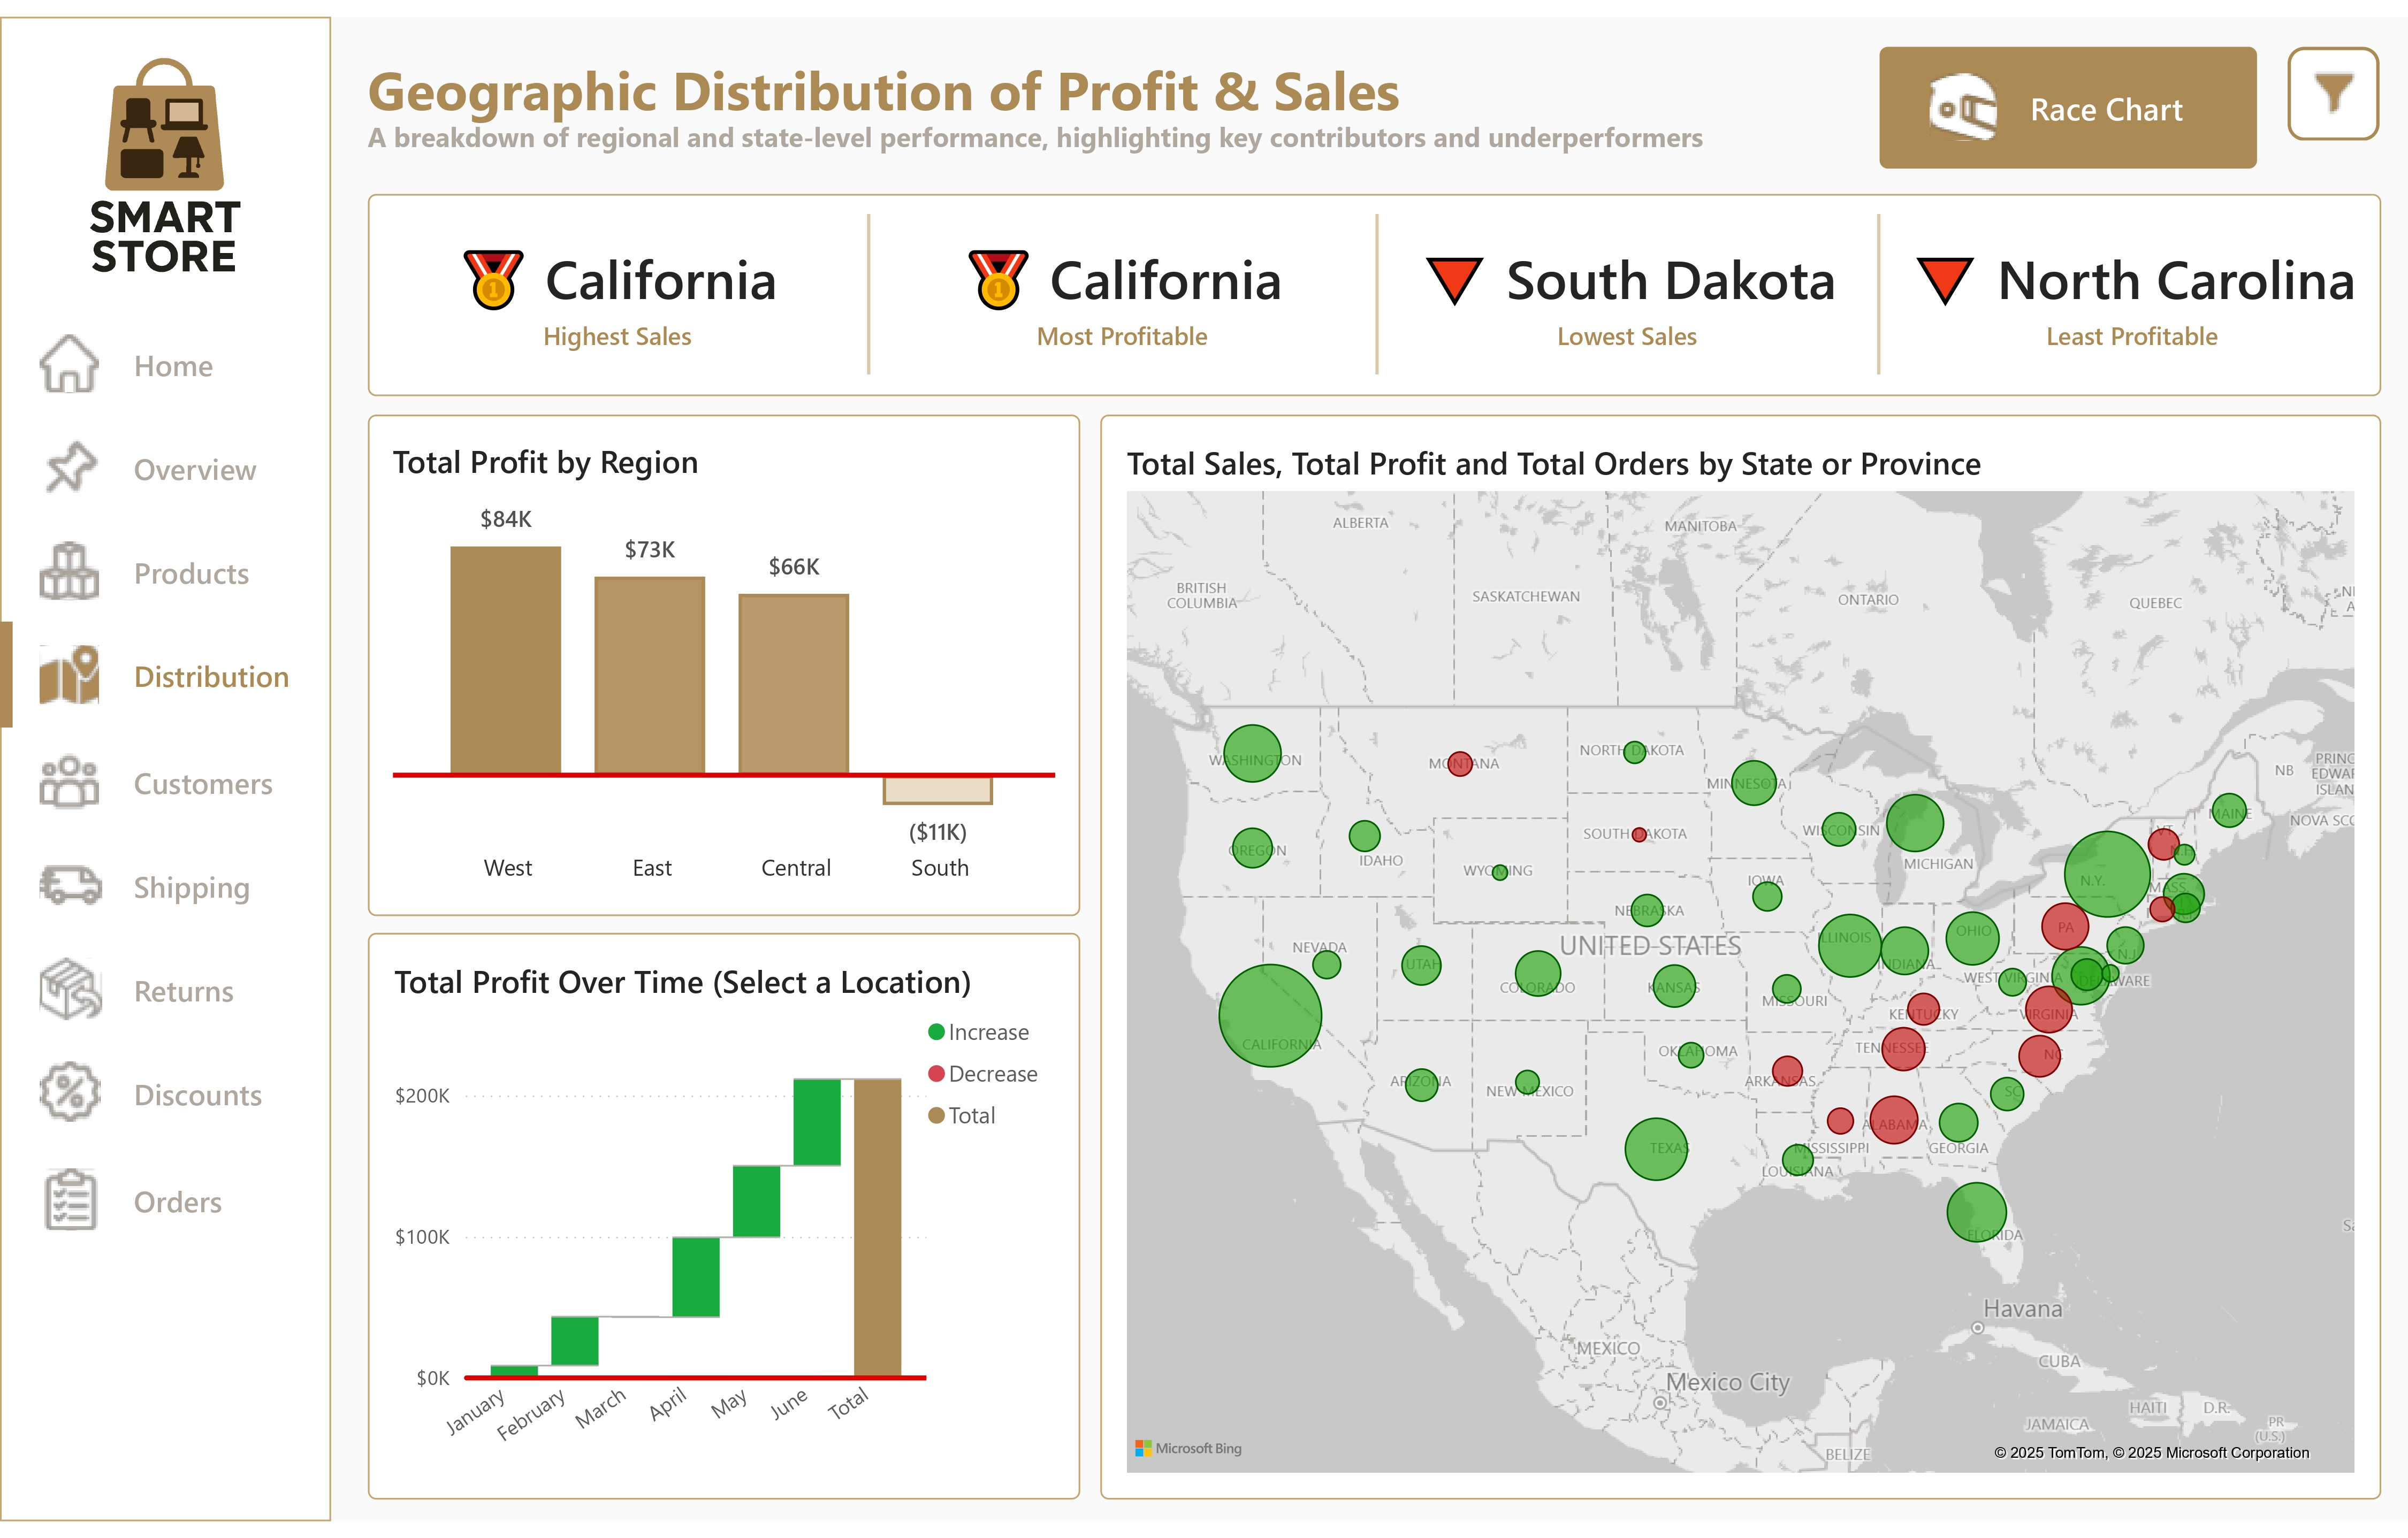

The page's visual inventory and layout, read from the dashboard file:
{"tool":"powerbi","page":{"name":"Distribution","canvas":[1440,900],"ordinal":3},"visuals":[{"type":"shape","box":[0,0,197.5,900],"z":0},{"type":"actionButton","box":[220,237.5,426.2,300],"z":1000},{"type":"actionButton","box":[0,175,197.5,62.5],"z":2000},{"type":"actionButton","box":[0,487.5,197.5,62.5],"z":3000},{"type":"actionButton","box":[0,237.5,197.5,62.5],"z":4000},{"type":"actionButton","box":[0,362.5,196,62.5],"z":5000},{"type":"actionButton","box":[0,425,197.5,62.5],"z":6000},{"type":"actionButton","box":[0,550,197.1,62.9],"z":8000},{"type":"actionButton","box":[0,300,197.5,62.5],"z":9000},{"type":"textbox","box":[220,55,821.2,33.8],"z":10000},{"type":"textbox","box":[220,15,717.5,61.2],"z":11000},{"type":"actionButton","title":"Show Filters Btn","box":[1368.8,17.5,55,56.2],"z":12000},{"type":"lineClusteredColumnComboChart","title":"Total Profit by Region","fields":{"Y":["OrderItems.Total Profit"],"Category":["Locations.region"]},"box":[220,237.5,426.2,300],"z":13000},{"type":"actionButton","box":[220,105,1203.8,121.2],"z":14000},{"type":"card","fields":{"Values":["Locations.Top Location"]},"box":[226.2,105,286.2,121.2],"z":15000},{"type":"card","fields":{"Values":["Locations.Lowest Sales"]},"box":[830,105,286.2,121.2],"z":16000},{"type":"card","fields":{"Values":["Locations.Most Profitable"]},"box":[527.5,105,286.2,121.2],"z":17000},{"type":"card","fields":{"Values":["Locations.Least Profitable"]},"box":[1131.3,105,286.2,121.2],"z":18000},{"type":"shape","box":[512.5,117.5,15,96.2],"z":19000},{"type":"shape","box":[815,117.5,15,96.2],"z":20000},{"type":"shape","box":[1116.2,117.5,15,96.2],"z":21000},{"type":"map","fields":{"Category":["Locations.country","Locations.state_or_province","Locations.City2","Locations.postal_code"],"Size":["OrderItems.Total Sales"]},"box":[657.5,237.5,766.2,648.8],"z":22000},{"type":"waterfallChart","title":"Total Profit Over Time (Select a Location)","fields":{"Category":["DateTable.Month Name"],"Y":["OrderItems.Total Profit"]},"box":[220,547.5,426.2,338.8],"z":23000},{"type":"actionButton","box":[0,675,197.5,62.5],"z":24000},{"type":"actionButton","box":[0,612.5,197.5,62.5],"z":25000},{"type":"actionButton","title":"Race Chart Btn","box":[1124.3,17.1,225.7,72.9],"z":27000},{"type":"image","box":[22.5,13.8,152.5,152.5],"z":27250}]}

Visuals, with their boxes in screenshot pixels (x1, y1, x2, y2), scaled from the page's 1440x900 canvas onto the 2408x1538 screenshot:
shape: box(0, 0, 330, 1537)
actionButton: box(368, 406, 1080, 919)
actionButton: box(0, 299, 330, 406)
actionButton: box(0, 833, 330, 940)
actionButton: box(0, 406, 330, 512)
actionButton: box(0, 619, 327, 726)
actionButton: box(0, 726, 330, 833)
actionButton: box(0, 940, 330, 1047)
actionButton: box(0, 512, 330, 619)
textbox: box(368, 94, 1741, 152)
textbox: box(368, 26, 1568, 130)
"Show Filters Btn" actionButton: box(2289, 30, 2381, 126)
"Total Profit by Region" lineClusteredColumnComboChart: box(368, 406, 1080, 919)
actionButton: box(368, 179, 2381, 387)
card - Locations.Top Location: box(378, 179, 857, 387)
card - Locations.Lowest Sales: box(1388, 179, 1866, 387)
card - Locations.Most Profitable: box(882, 179, 1361, 387)
card - Locations.Least Profitable: box(1892, 179, 2371, 387)
shape: box(857, 201, 882, 365)
shape: box(1363, 201, 1388, 365)
shape: box(1866, 201, 1892, 365)
map - Locations.country x Locations.state_or_province: box(1100, 406, 2381, 1514)
"Total Profit Over Time (Select a Location)" waterfallChart: box(368, 936, 1080, 1514)
actionButton: box(0, 1153, 330, 1260)
actionButton: box(0, 1047, 330, 1153)
"Race Chart Btn" actionButton: box(1880, 29, 2258, 154)
image: box(37, 24, 293, 284)
